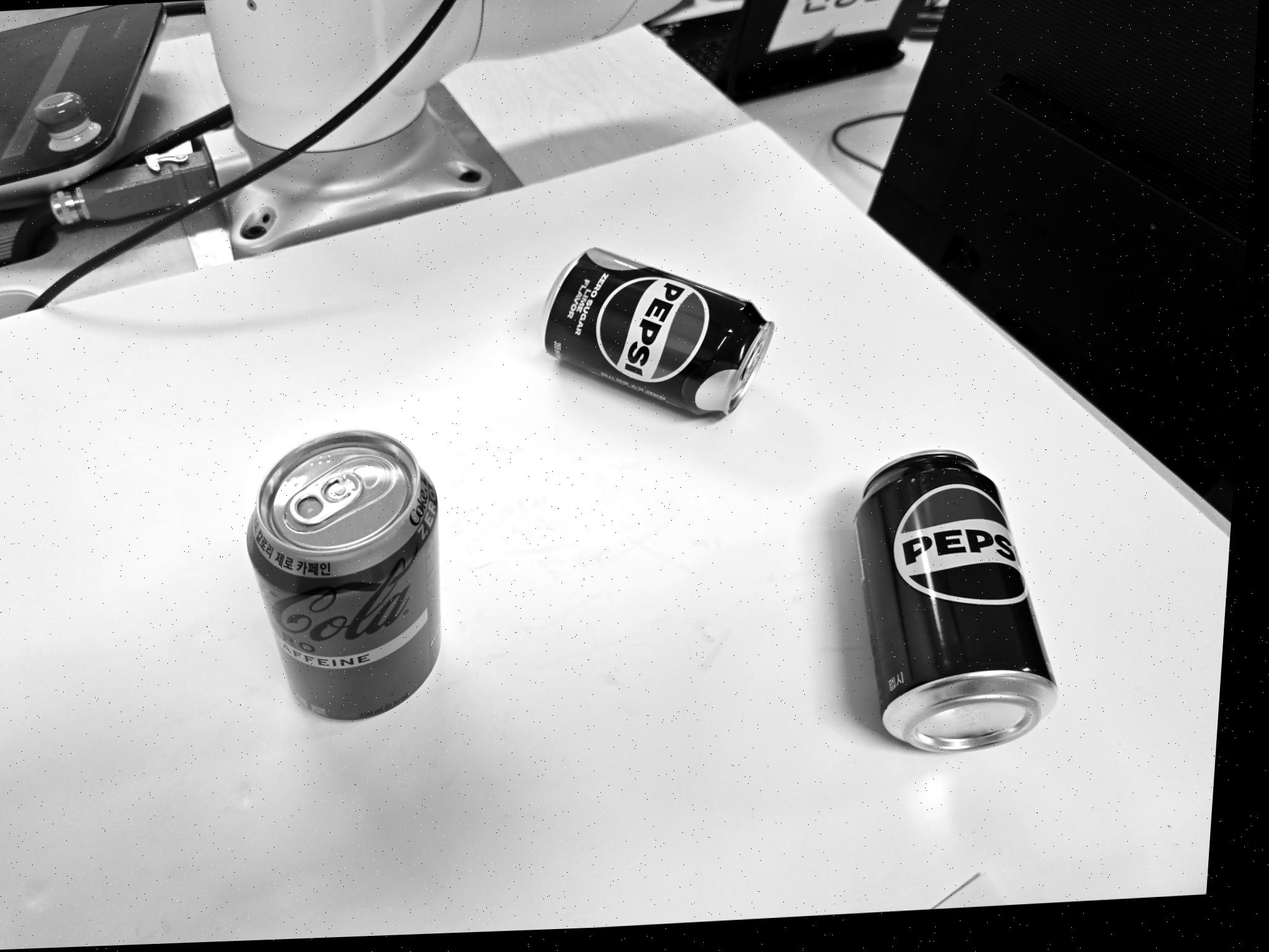can_coke_decaf: (246, 427, 442, 721)
can_pepsi: (855, 446, 1059, 747)
can_pepsi_zero: (541, 244, 779, 424)
